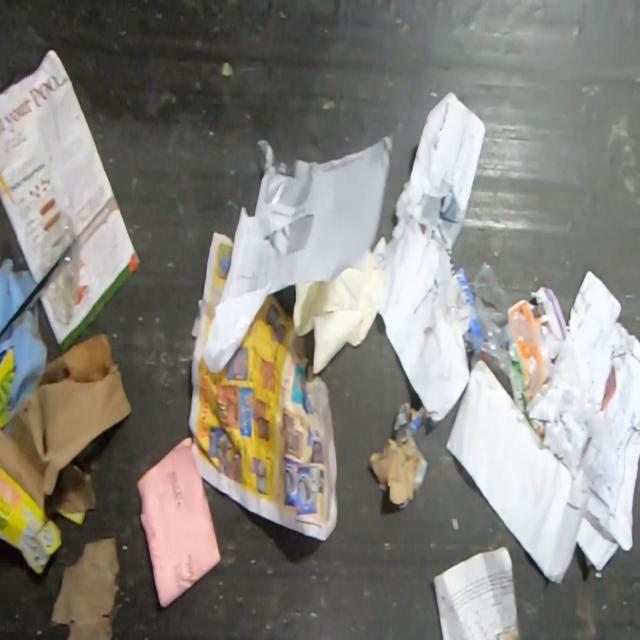cardboard: (0, 328, 134, 514), (136, 434, 222, 609), (0, 468, 63, 576), (0, 348, 16, 416), (60, 511, 87, 526)
metal: (0, 258, 62, 338)
soft_plastic: (468, 259, 578, 399), (0, 292, 49, 429), (38, 210, 82, 326), (0, 256, 38, 334)
